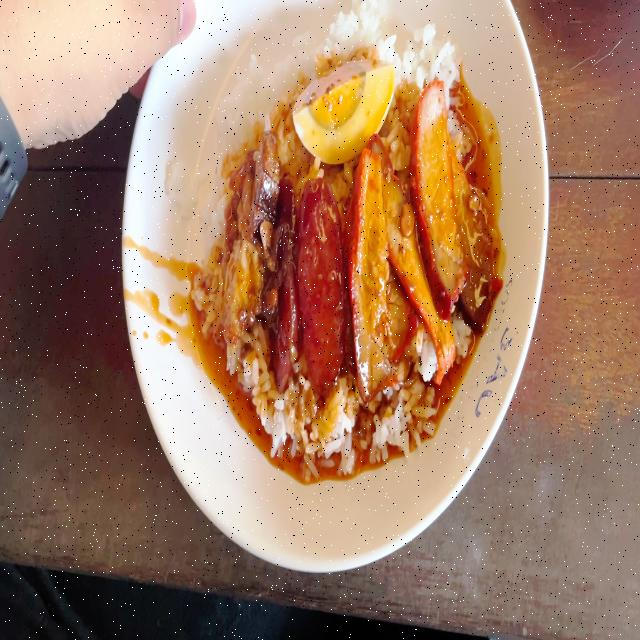boiled_egg: (291, 58, 395, 153)
chainese_sausage: (274, 181, 339, 385)
crispy_pork: (223, 134, 280, 333)
red_pork: (351, 146, 446, 385), (415, 88, 468, 308)
red_pork_and_crispy_pork: (212, 15, 494, 434)
rice: (249, 394, 429, 453), (398, 39, 471, 87), (333, 15, 391, 60)
